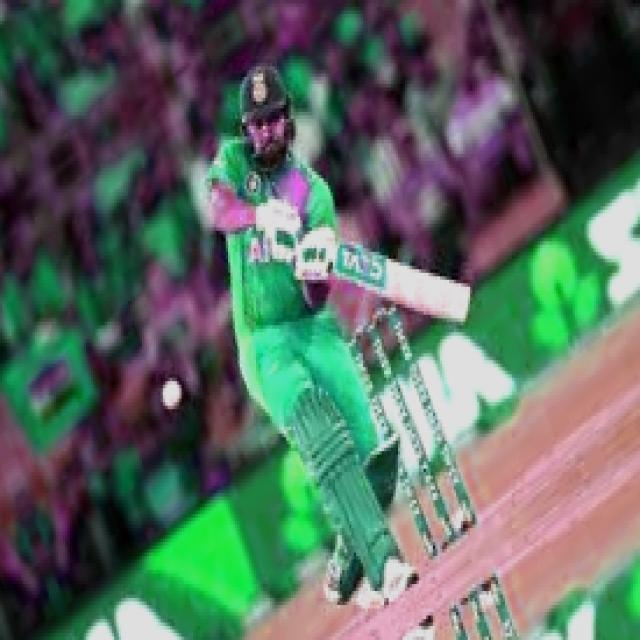toe: (462, 285, 478, 326)
